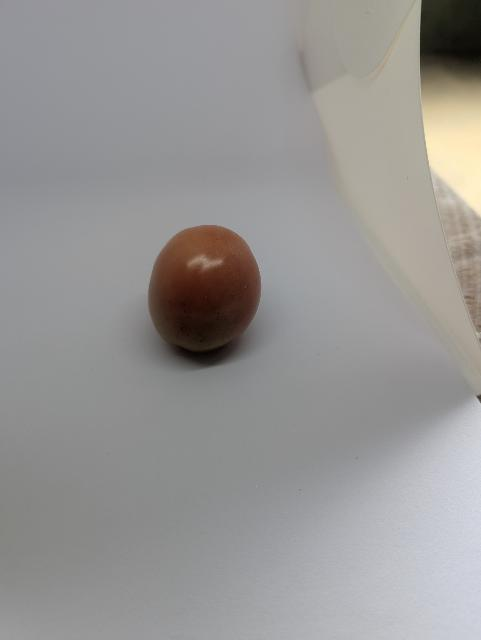red: (146, 223, 265, 354)
